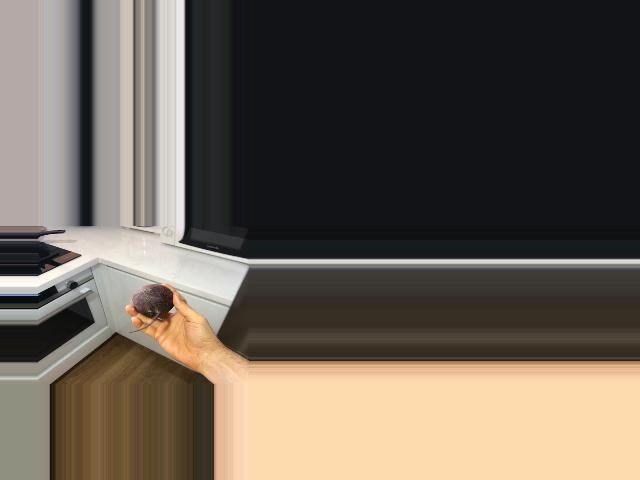beet: (128, 284, 173, 333)
